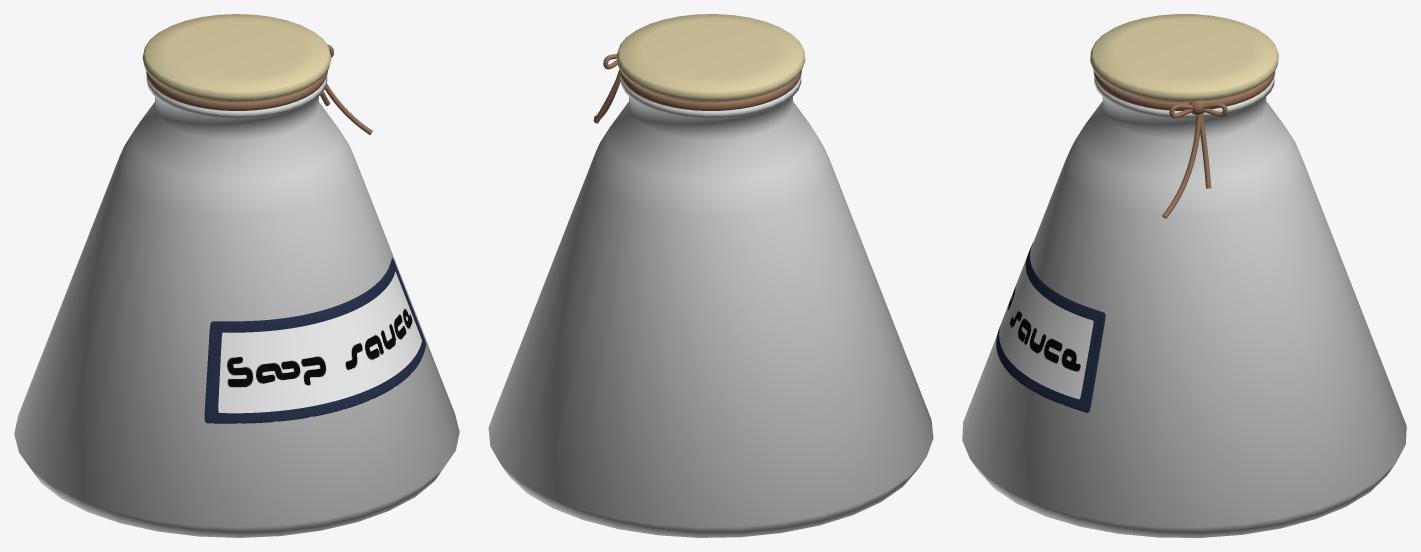
Rendered from liquid template.fbx.
3 renders of one model, left to right at view 1: azimuth 30°, elevation 25°; view 2: azimuth 150°, elevation 25°; view 3: azimuth 270°, elevation 25°, orthographic.
Parts seen in each view (by area): view 1: container, label.008, cap, rope.008; view 2: container, cap, rope.008; view 3: container, cap, label.008, rope.008.
Boxes of the visible parts, x1,y1,x2,y2 form: container: (14, 75, 459, 537); label.008: (204, 257, 425, 423); cap: (142, 14, 331, 102); rope.008: (146, 44, 372, 134); container: (488, 75, 933, 537); cap: (616, 14, 805, 102); rope.008: (593, 54, 801, 123); container: (962, 76, 1406, 537); cap: (1090, 14, 1278, 102); label.008: (996, 242, 1105, 412); rope.008: (1093, 71, 1275, 218).
Bounding box in the file's own units: 91.81 × 91.86 × 91.81.
